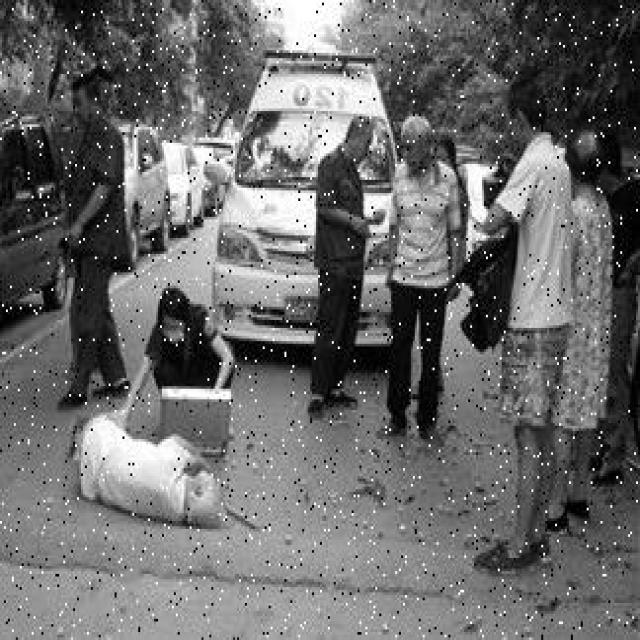fall: (69, 408, 243, 526)
